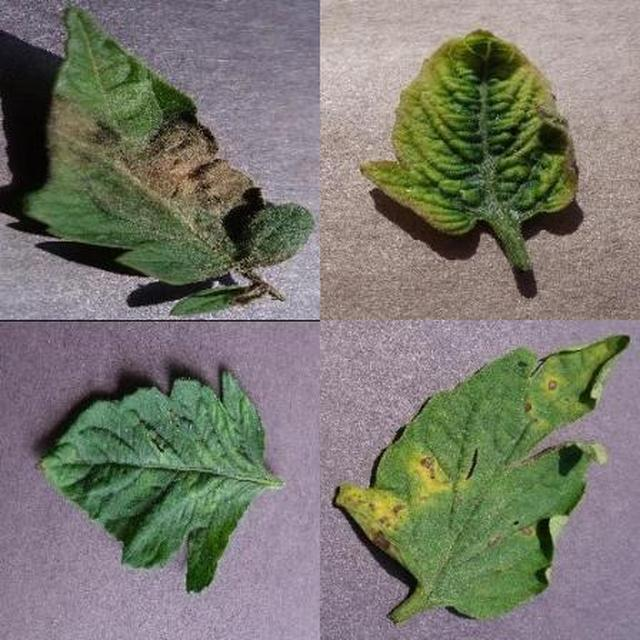Late Blight Leaf: (218, 191, 640, 640)
